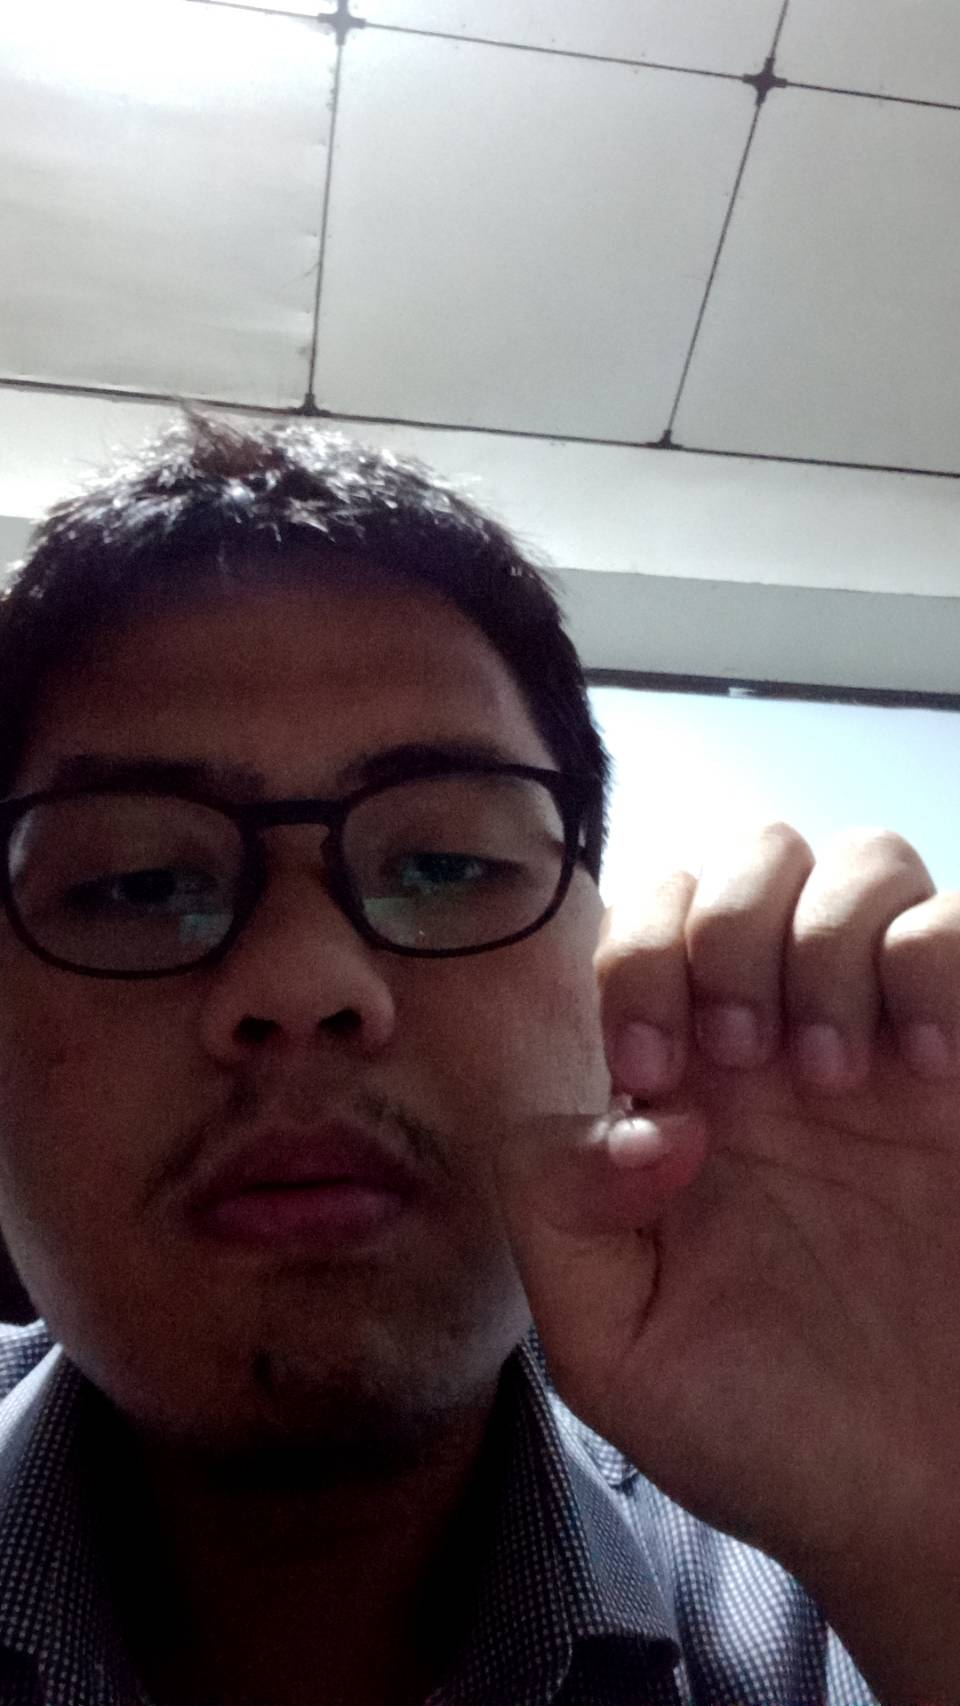E: (490, 812, 960, 1549)
